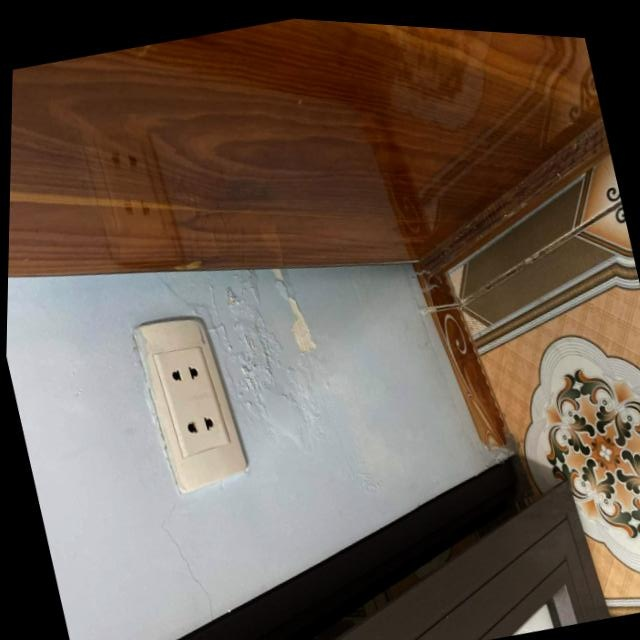outlet: (125, 306, 255, 504)
